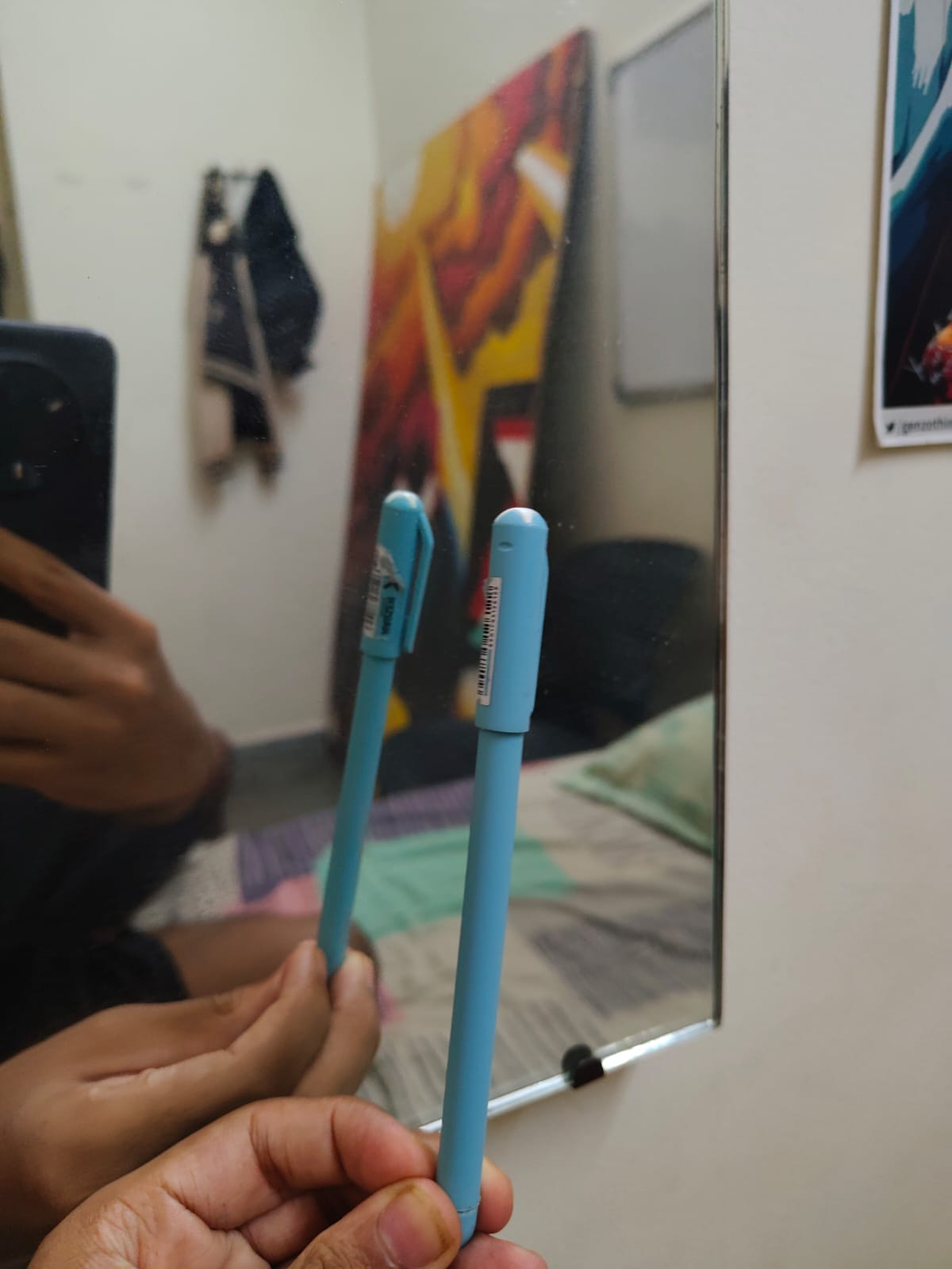pen: (439, 492, 563, 1254)
